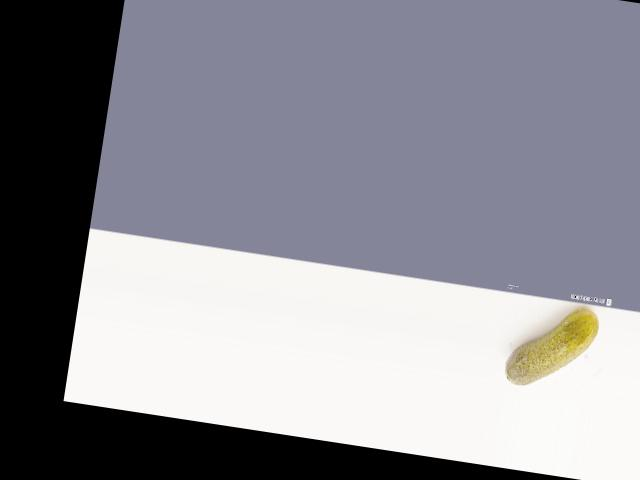cucumber: (502, 297, 601, 394)
